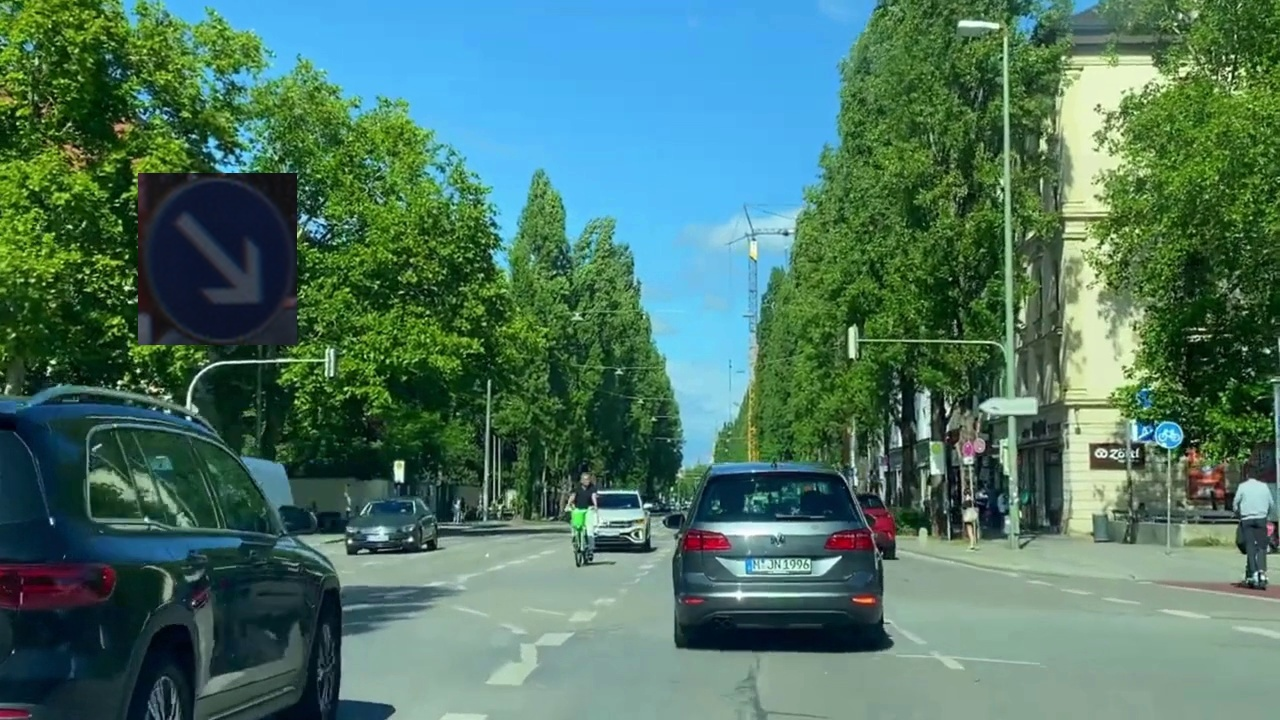Keep right: (138, 173, 297, 345)
